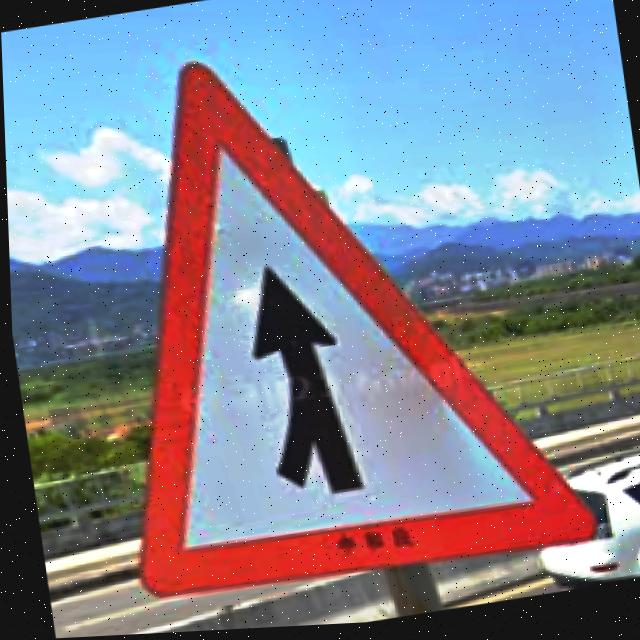leftmerge: (135, 67, 593, 601)
